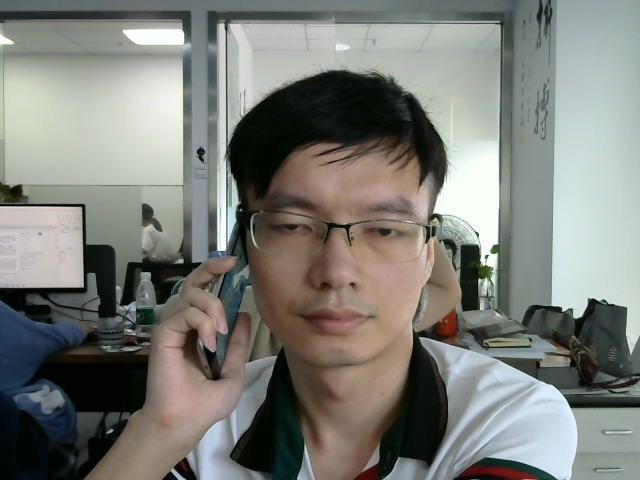hand: (146, 250, 252, 421)
